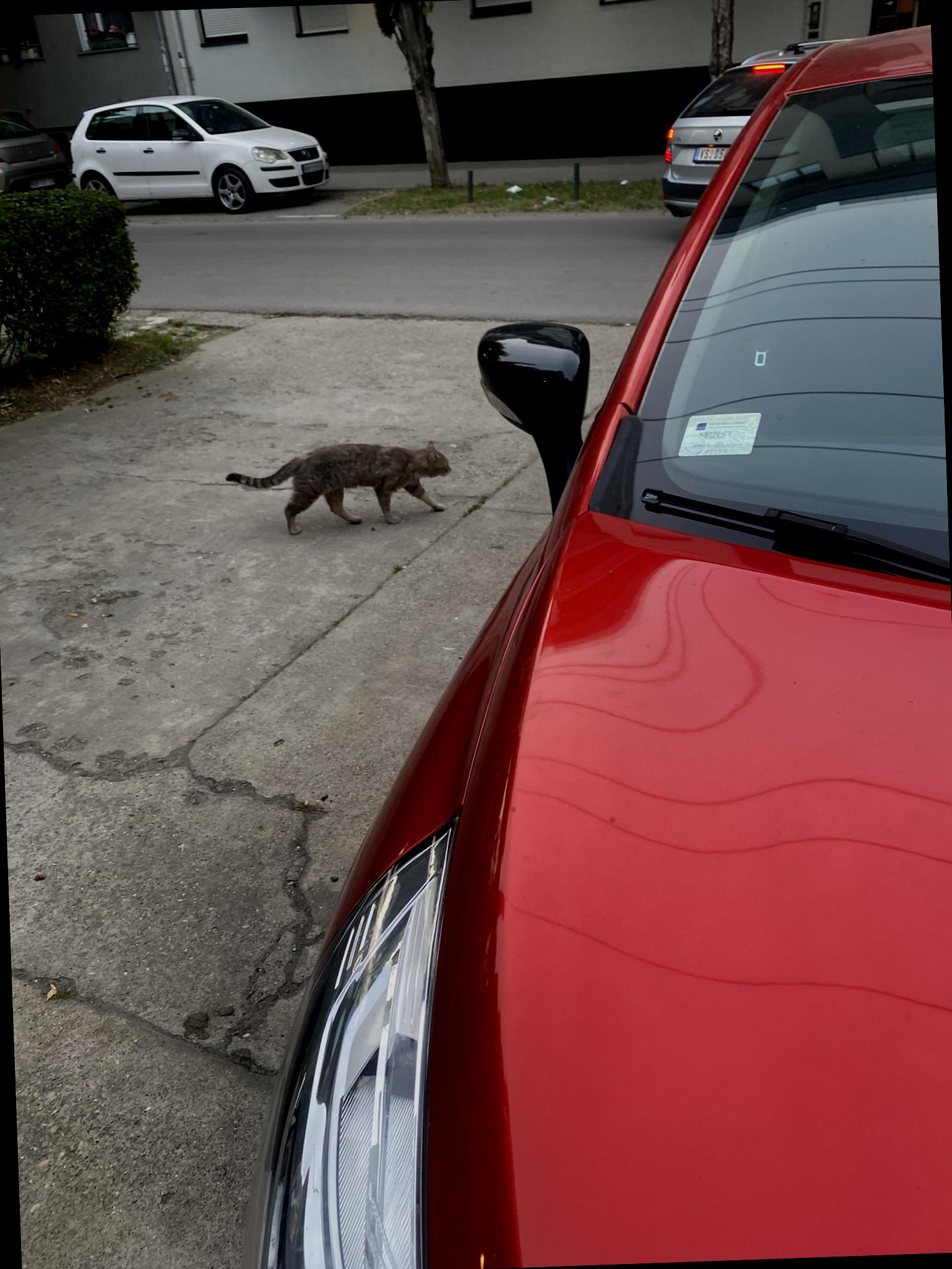macka: (224, 439, 454, 537)
